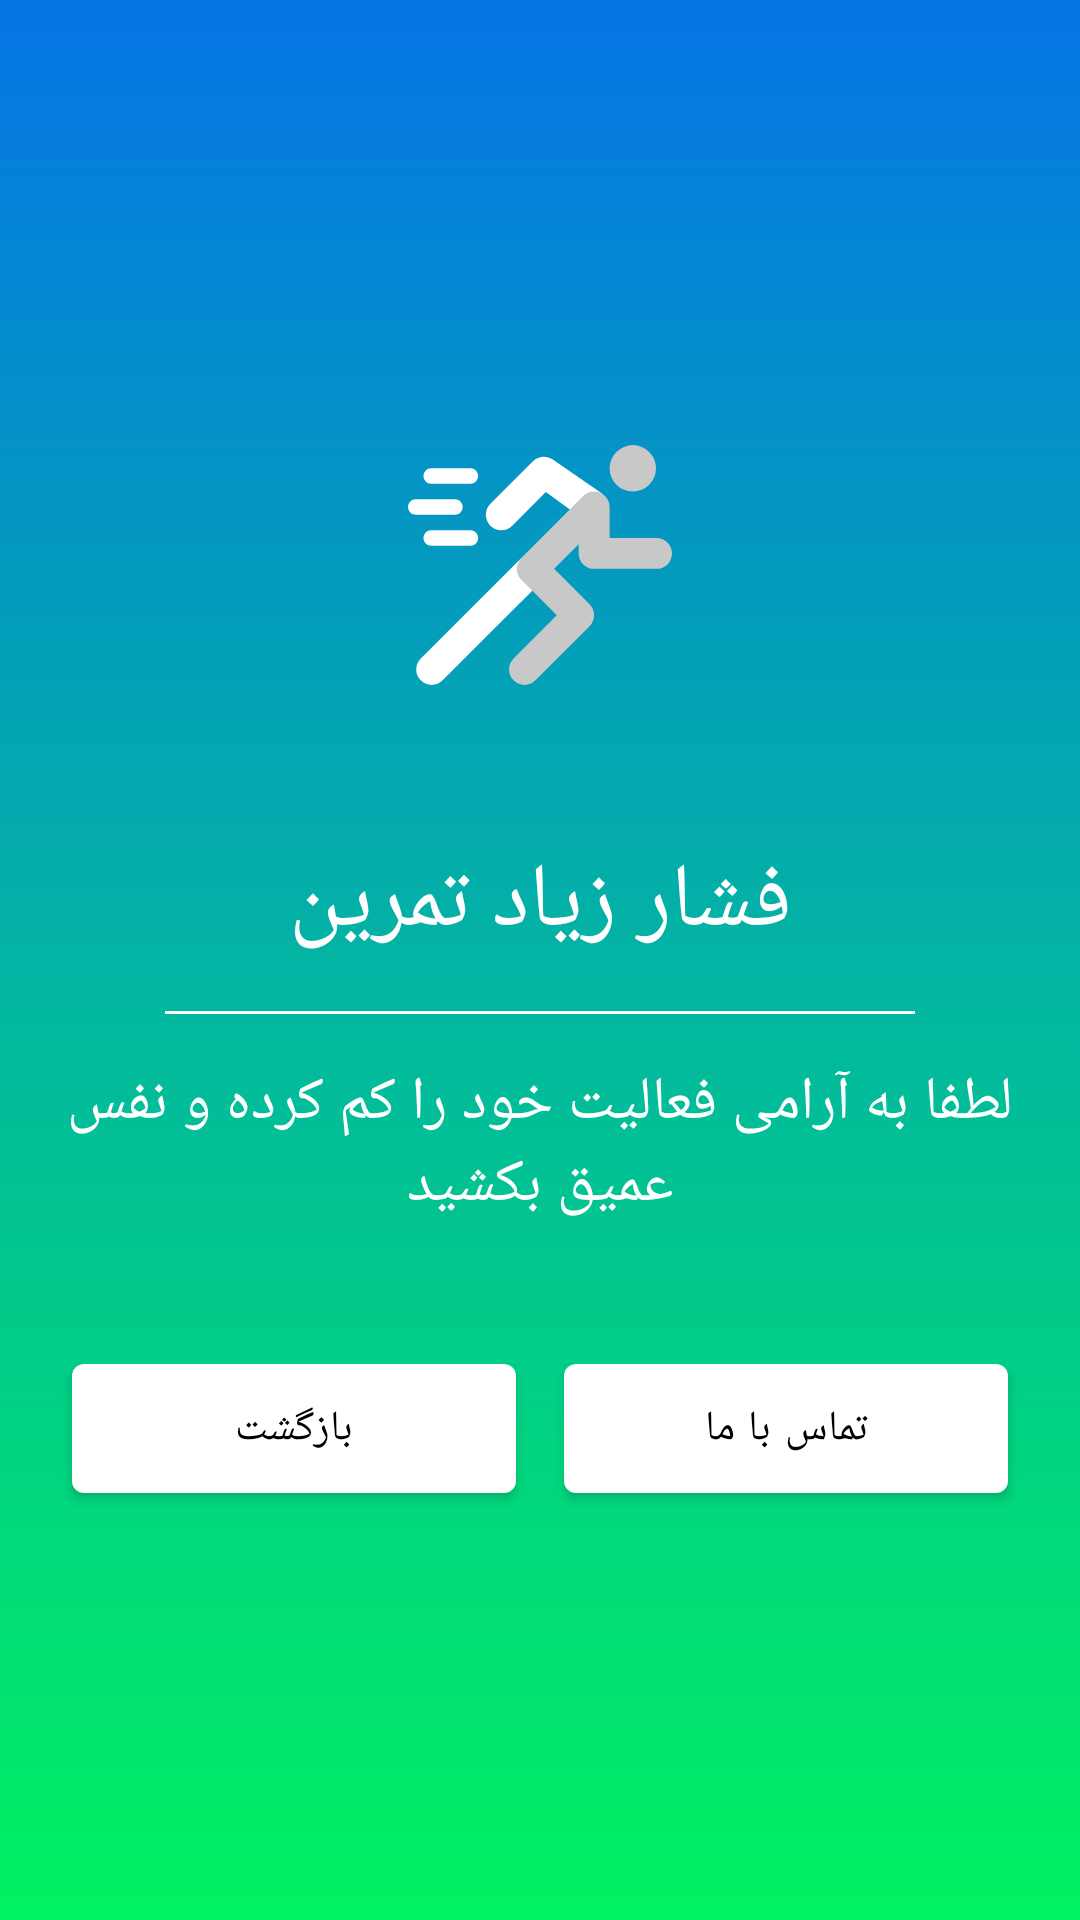

Locate icon controls on the screen. Image size 1080w x 1920h, boxes as (x1, y1, x2, y2).
running: (360, 385, 720, 685)
